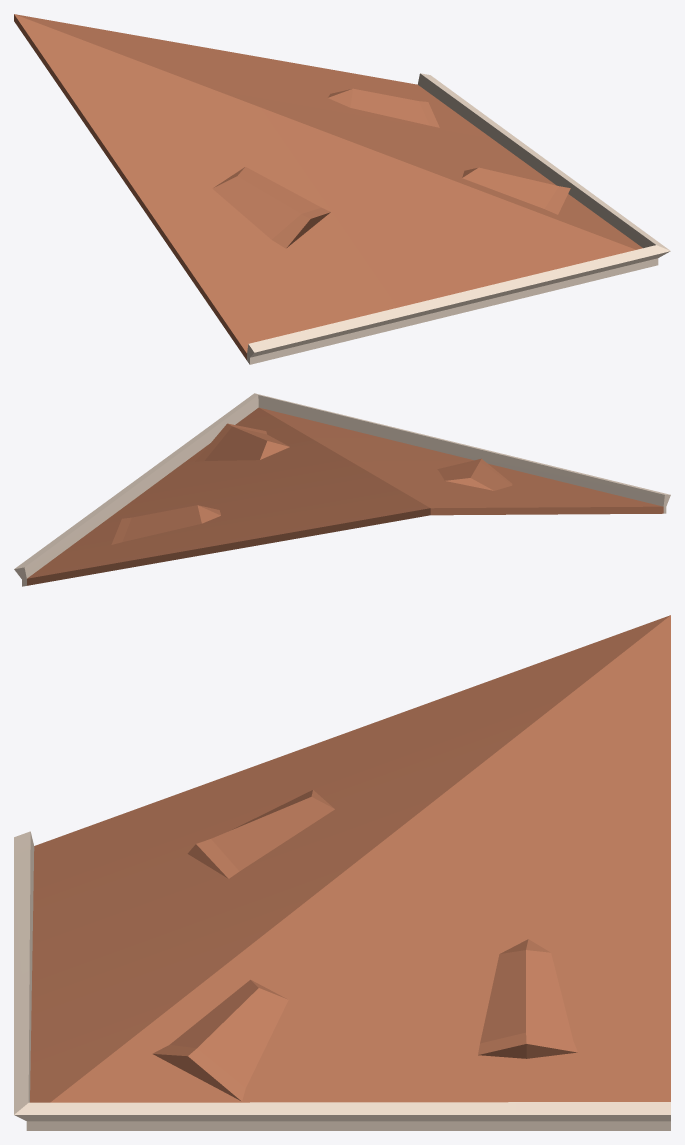
File: empire-roof-out-edge-big-3m-rim-empire.glb
3 renders of one model, top to bottom at view 1: azimuth 30°, elevation 25°; view 2: azimuth 150°, elevation 25°; view 3: azimuth 270°, elevation 25°, orthographic. The views are drawn at different scales.
Parts seen in each view (by area): view 1: SM_Roof_Out_Edge_Big_3m_Rim_Empire; view 2: SM_Roof_Out_Edge_Big_3m_Rim_Empire; view 3: SM_Roof_Out_Edge_Big_3m_Rim_Empire.
Boxes of the visible parts, x1,y1,x2,y2 form: SM_Roof_Out_Edge_Big_3m_Rim_Empire: [14, 14, 670, 364]; SM_Roof_Out_Edge_Big_3m_Rim_Empire: [14, 393, 670, 586]; SM_Roof_Out_Edge_Big_3m_Rim_Empire: [14, 615, 670, 1130].
Size of the model in its own units: 3.06 by 1.25 by 3.06.
